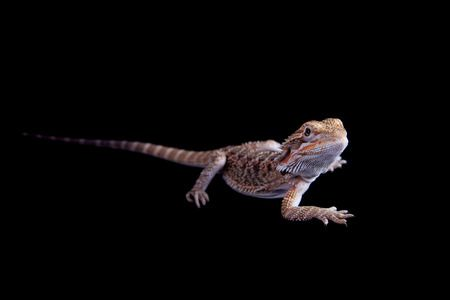bearded: (23, 117, 355, 229)
